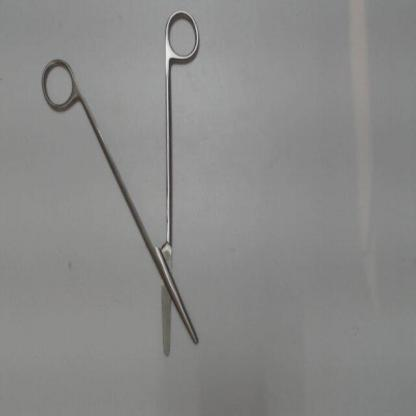9 Metzenbaum Scissors: (38, 6, 205, 362)
